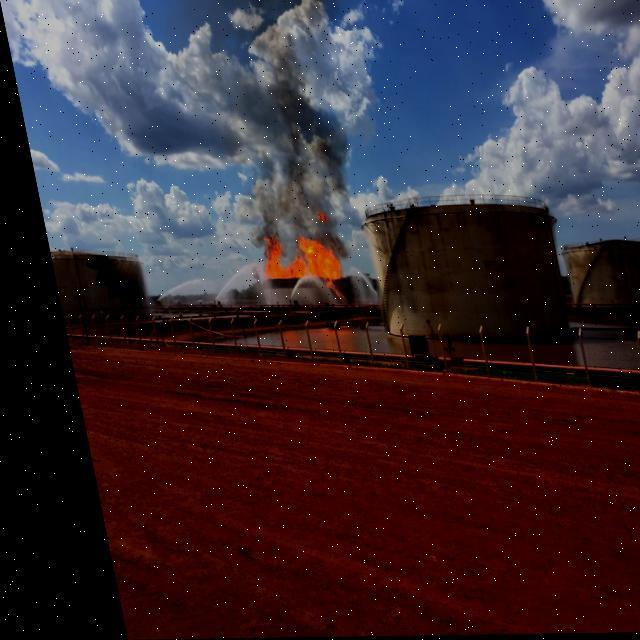Fire: (247, 234, 334, 298)
